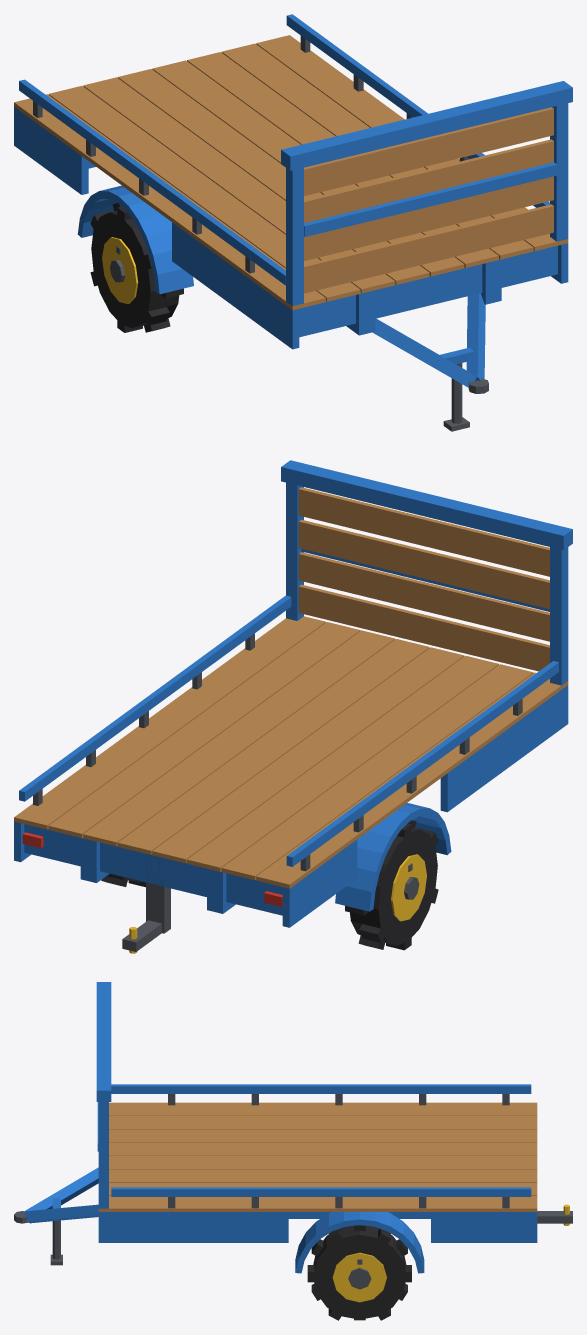
Rendered from baletrailer.glb.
3 renders of one model, top to bottom at view 1: azimuth 30°, elevation 25°; view 2: azimuth 150°, elevation 25°; view 3: azimuth 270°, elevation 25°, orthographic. The views are drawn at different scales.
Visible parts, largest first — view 1: planks, head_planks, head_rails, sills, cross_members, head_posts, rail_R, tyre_R, fender_R, rail_L, beams, tongue_R (+5 smaller); view 2: planks, head_planks, sills, head_rails, cross_members, rail_L, rail_R, head_posts, tyre_R, fender_R, beams, rim_R (+5 smaller); view 3: planks, sills, tyre_L, rail_L, rail_R, fender_L, head_rails, rim_L, tread_L, head_posts, tongue_L, tongue_R (+4 smaller).
Boxes of the visible parts, x1,y1,x2,y2 form: planks: (14,35,568,310); head_planks: (304,107,553,293); head_rails: (281,81,572,236); sills: (14,107,568,349); cross_members: (88,161,557,337); head_posts: (286,103,568,305); rail_R: (19,79,285,285); tyre_R: (91,210,179,328); fender_R: (77,185,193,294); rail_L: (286,14,549,207); beams: (346,259,501,335); tongue_R: (372,318,476,387); planks: (14,616,568,888); head_planks: (298,487,549,671); sills: (14,685,568,927); head_rails: (281,460,572,611); cross_members: (24,824,282,915); rail_L: (19,595,291,801); rail_R: (286,661,558,866); head_posts: (286,482,568,685); tyre_R: (350,828,437,945); fender_R: (335,803,451,911); beams: (80,837,235,913); rim_R: (391,854,426,921); planks: (98,1102,537,1211); sills: (98,1212,537,1242); tyre_L: (313,1225,406,1319); rail_L: (111,1187,531,1196); rail_R: (111,1084,531,1093); fender_L: (295,1212,424,1273); head_rails: (96,982,111,1151); rim_L: (332,1252,386,1302); tread_L: (307,1225,411,1320); head_posts: (98,1102,108,1208); tongue_L: (24,1204,98,1223); tongue_R: (25,1167,98,1223).
Size of the model in its own units: 2.59 by 2.46 by 5.35.
